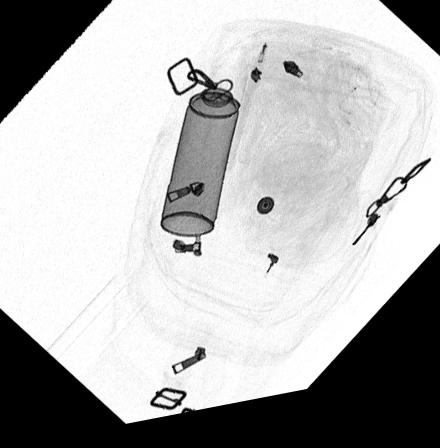Sprayer: (159, 63, 249, 244)
